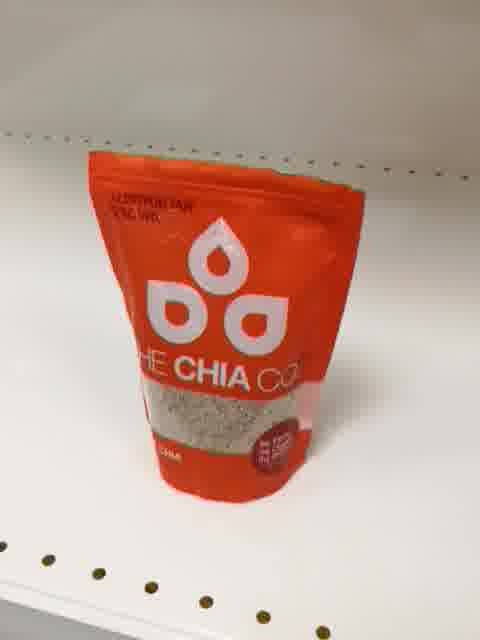whitechia: (85, 143, 375, 505)
